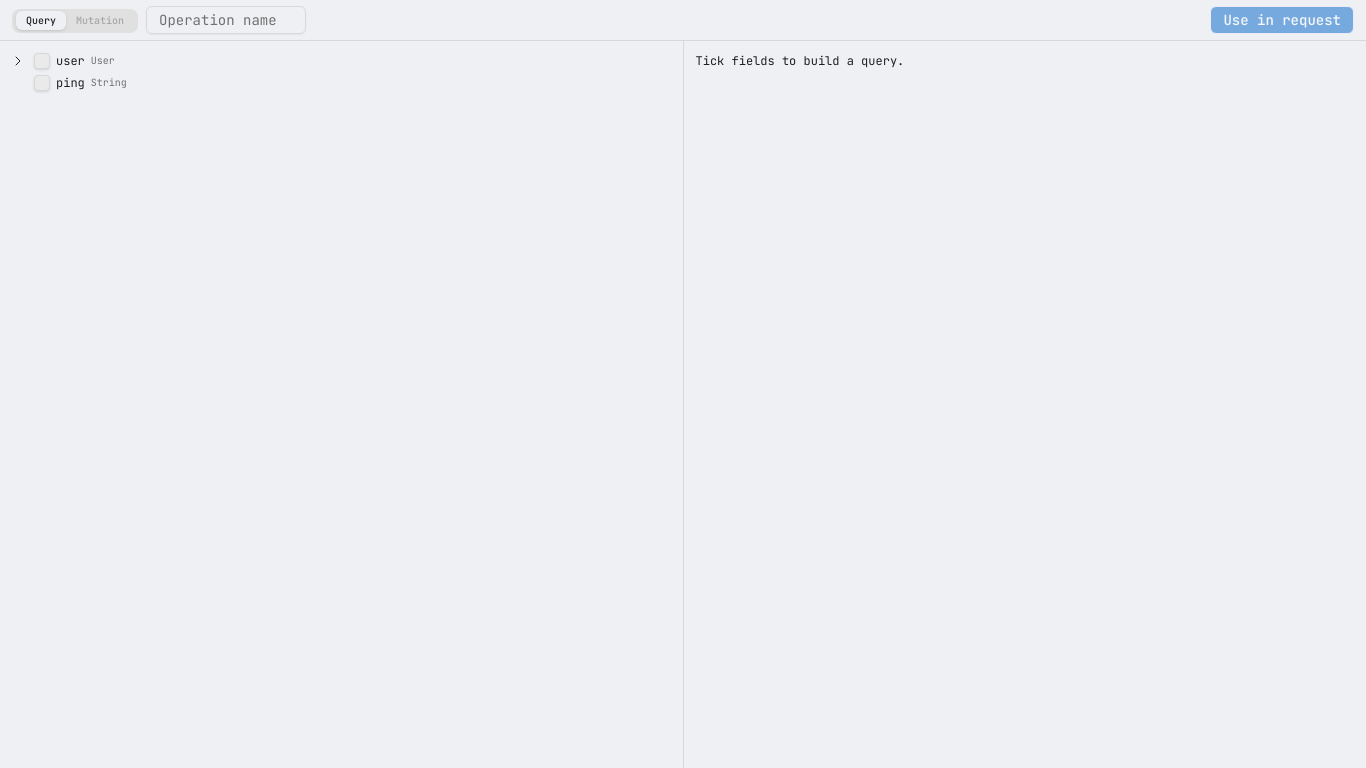
Scenario: GraphQlQueryBuilder › expands an object field and ticks a nested field
What coordinates should you click on to do the following:
click the button named "Expand user"
I would click on:
 (18, 61)
Its box is [8,51,28,71].
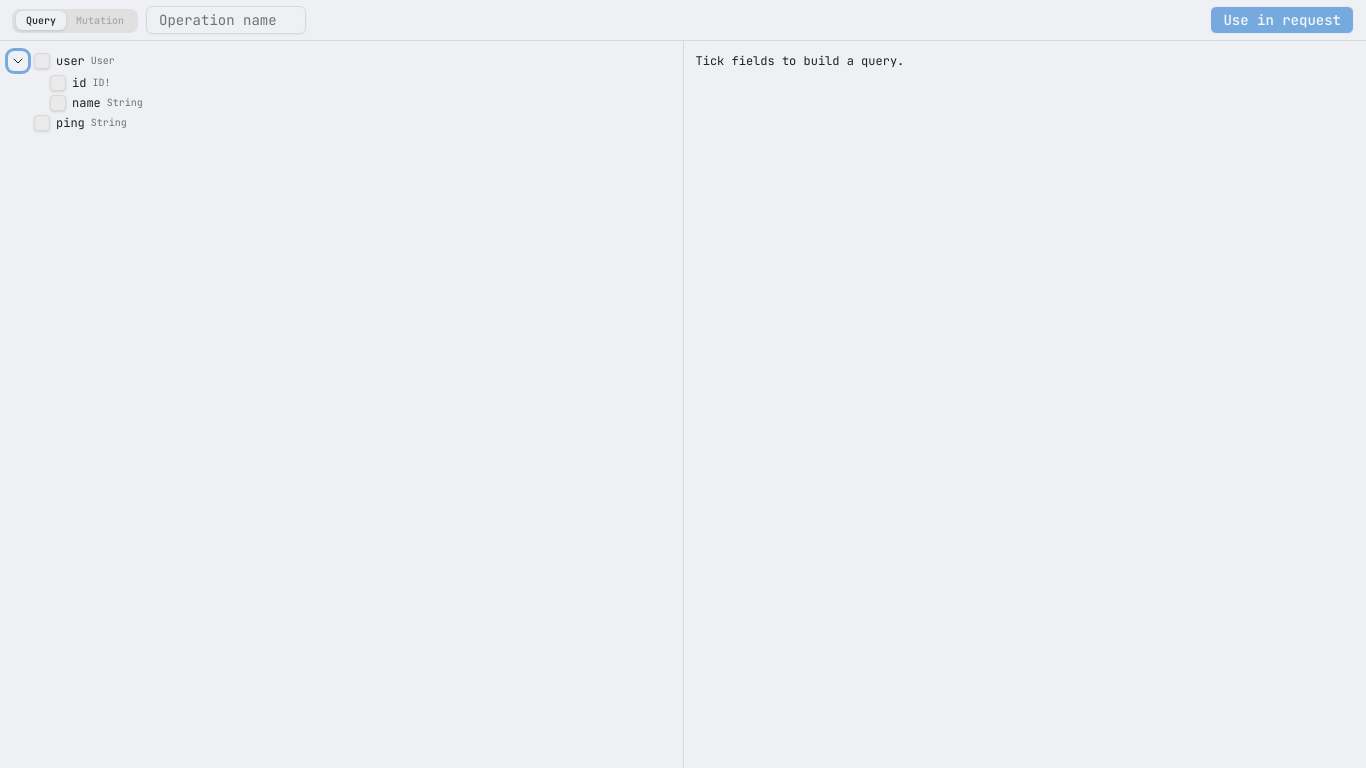
What coordinates should you click on to do the following:
click the checkbox named "user.name"
I would click on:
 (58, 103)
Its box is [50,95,66,111].
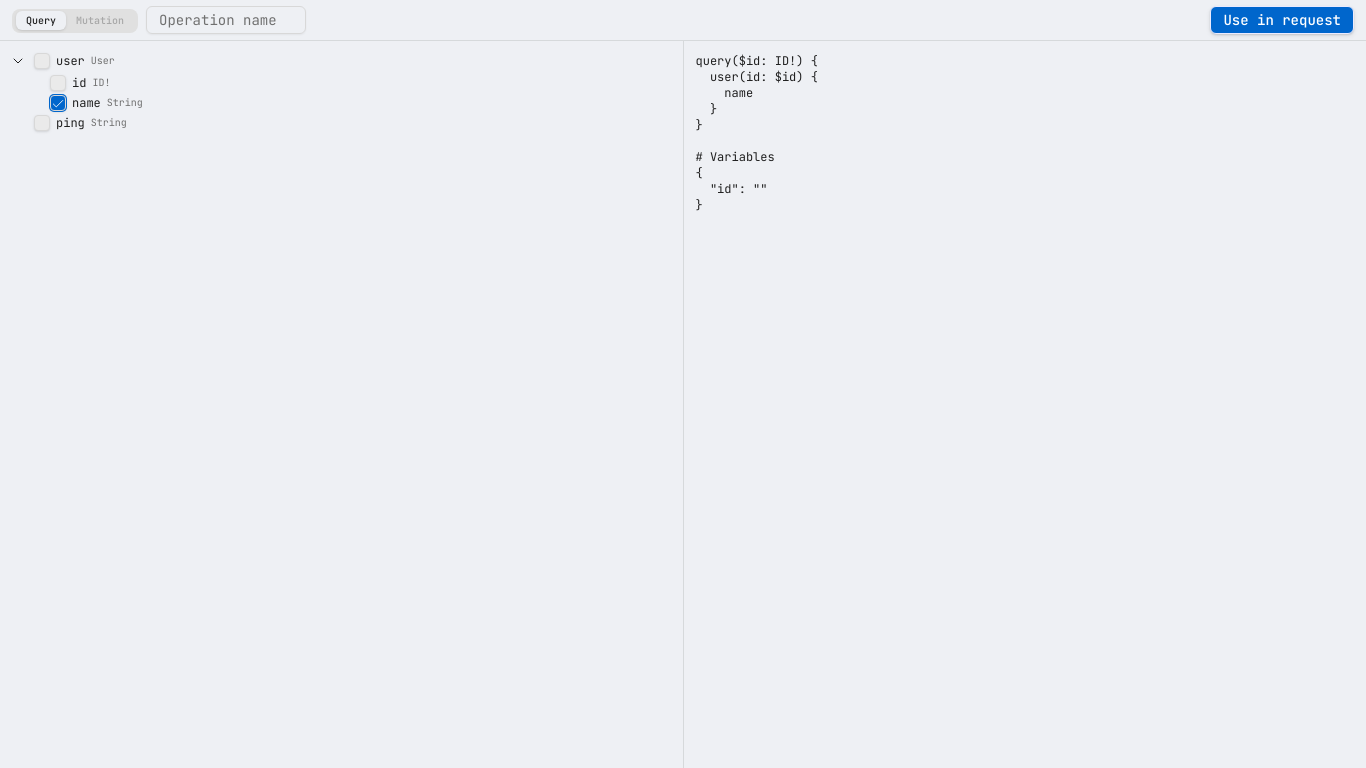
Expected: the text with test id "builder-preview" shows "user(id: $id)", [696,53,818,133]
Expected: the text with test id "builder-preview" shows "name", [696,53,818,133]
